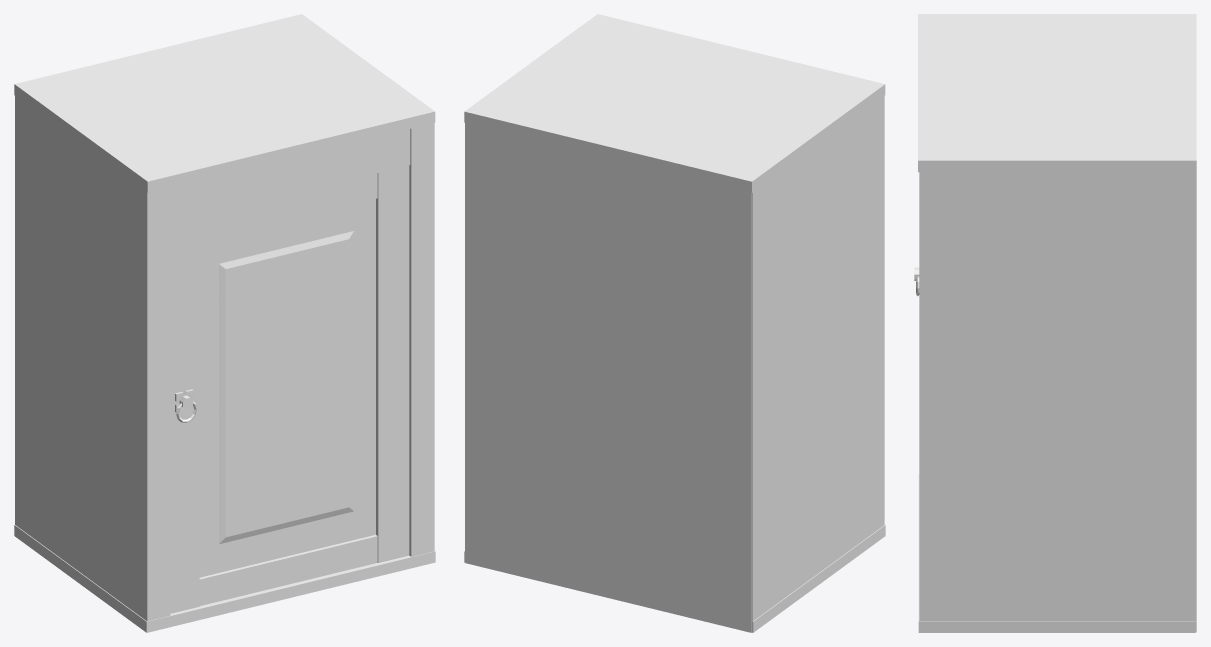
The model's file is Prop_Cupboard_02.glb.
The picture shows the model from 3 angles, left to right: view 1: azimuth 30°, elevation 25°; view 2: azimuth 150°, elevation 25°; view 3: azimuth 270°, elevation 25°; orthographic projection. The views are drawn at different scales.
Parts seen in each view (by area): view 1: Prop_Cupboard_02, Prop_Cupboard_Door_02; view 2: Prop_Cupboard_02; view 3: Prop_Cupboard_02.
Part boxes in pixels (box(x1,y1,x2,y2)): Prop_Cupboard_02: box(14, 14, 435, 632); Prop_Cupboard_Door_02: box(170, 165, 409, 613); Prop_Cupboard_02: box(464, 14, 885, 632); Prop_Cupboard_02: box(918, 14, 1196, 632).
Bounding box in the file's own units: 0.4019 × 0.6 × 0.3257.
Materials: 1 (1 with a texture image).
